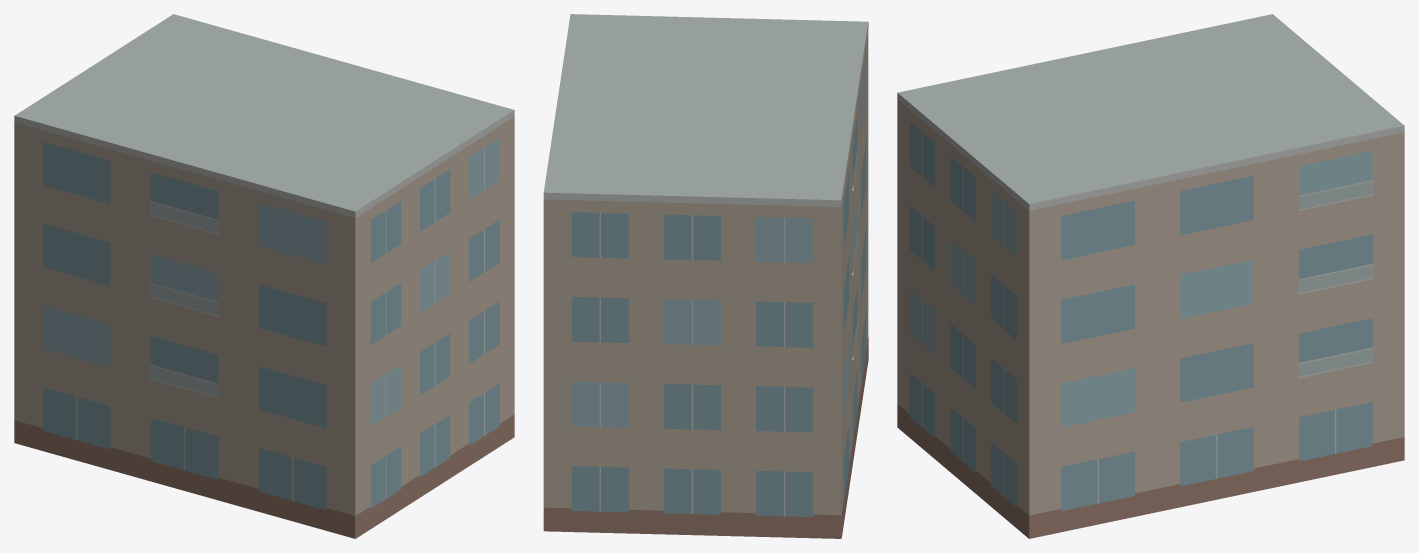
Rendered from survey-upis-32836823.glb.
3 renders of one model, left to right at view 1: azimuth 30°, elevation 25°; view 2: azimuth 150°, elevation 25°; view 3: azimuth 270°, elevation 25°, orthographic. The views are drawn at different scales.
Parts seen in each view (by area): view 1: survey-upis-32836823.tmp; view 2: survey-upis-32836823.tmp; view 3: survey-upis-32836823.tmp.
Part boxes in pixels (left/top/right/bottom): survey-upis-32836823.tmp: left=14, top=14, right=514, bottom=538; survey-upis-32836823.tmp: left=543, top=14, right=868, bottom=538; survey-upis-32836823.tmp: left=897, top=14, right=1404, bottom=538.
Size of the model in its own units: 14.87 by 12.2 by 16.76.
